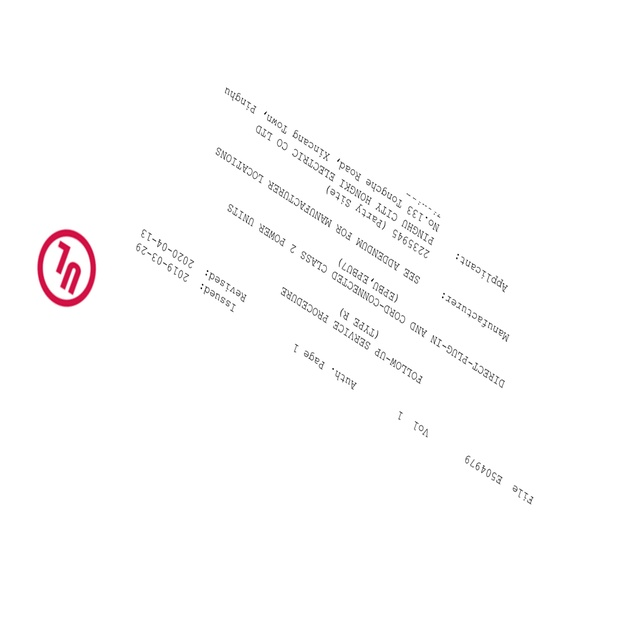ul: (37, 227, 97, 308)
